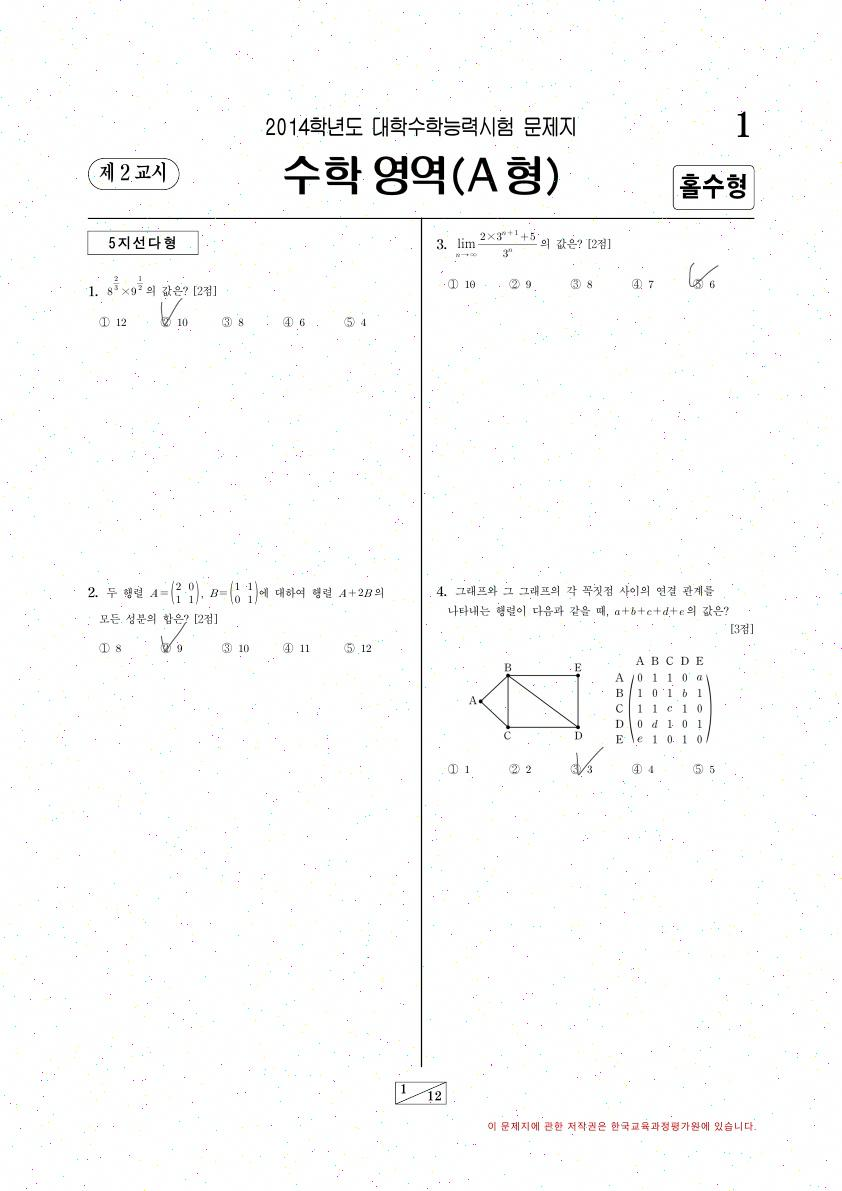question: (424, 577, 763, 796), (73, 573, 402, 671), (425, 222, 734, 313), (72, 266, 388, 347)
